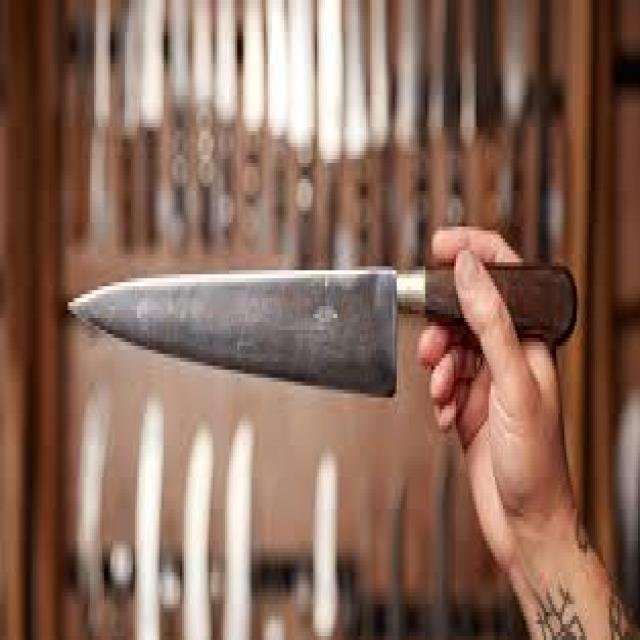knife: (64, 247, 577, 396)
